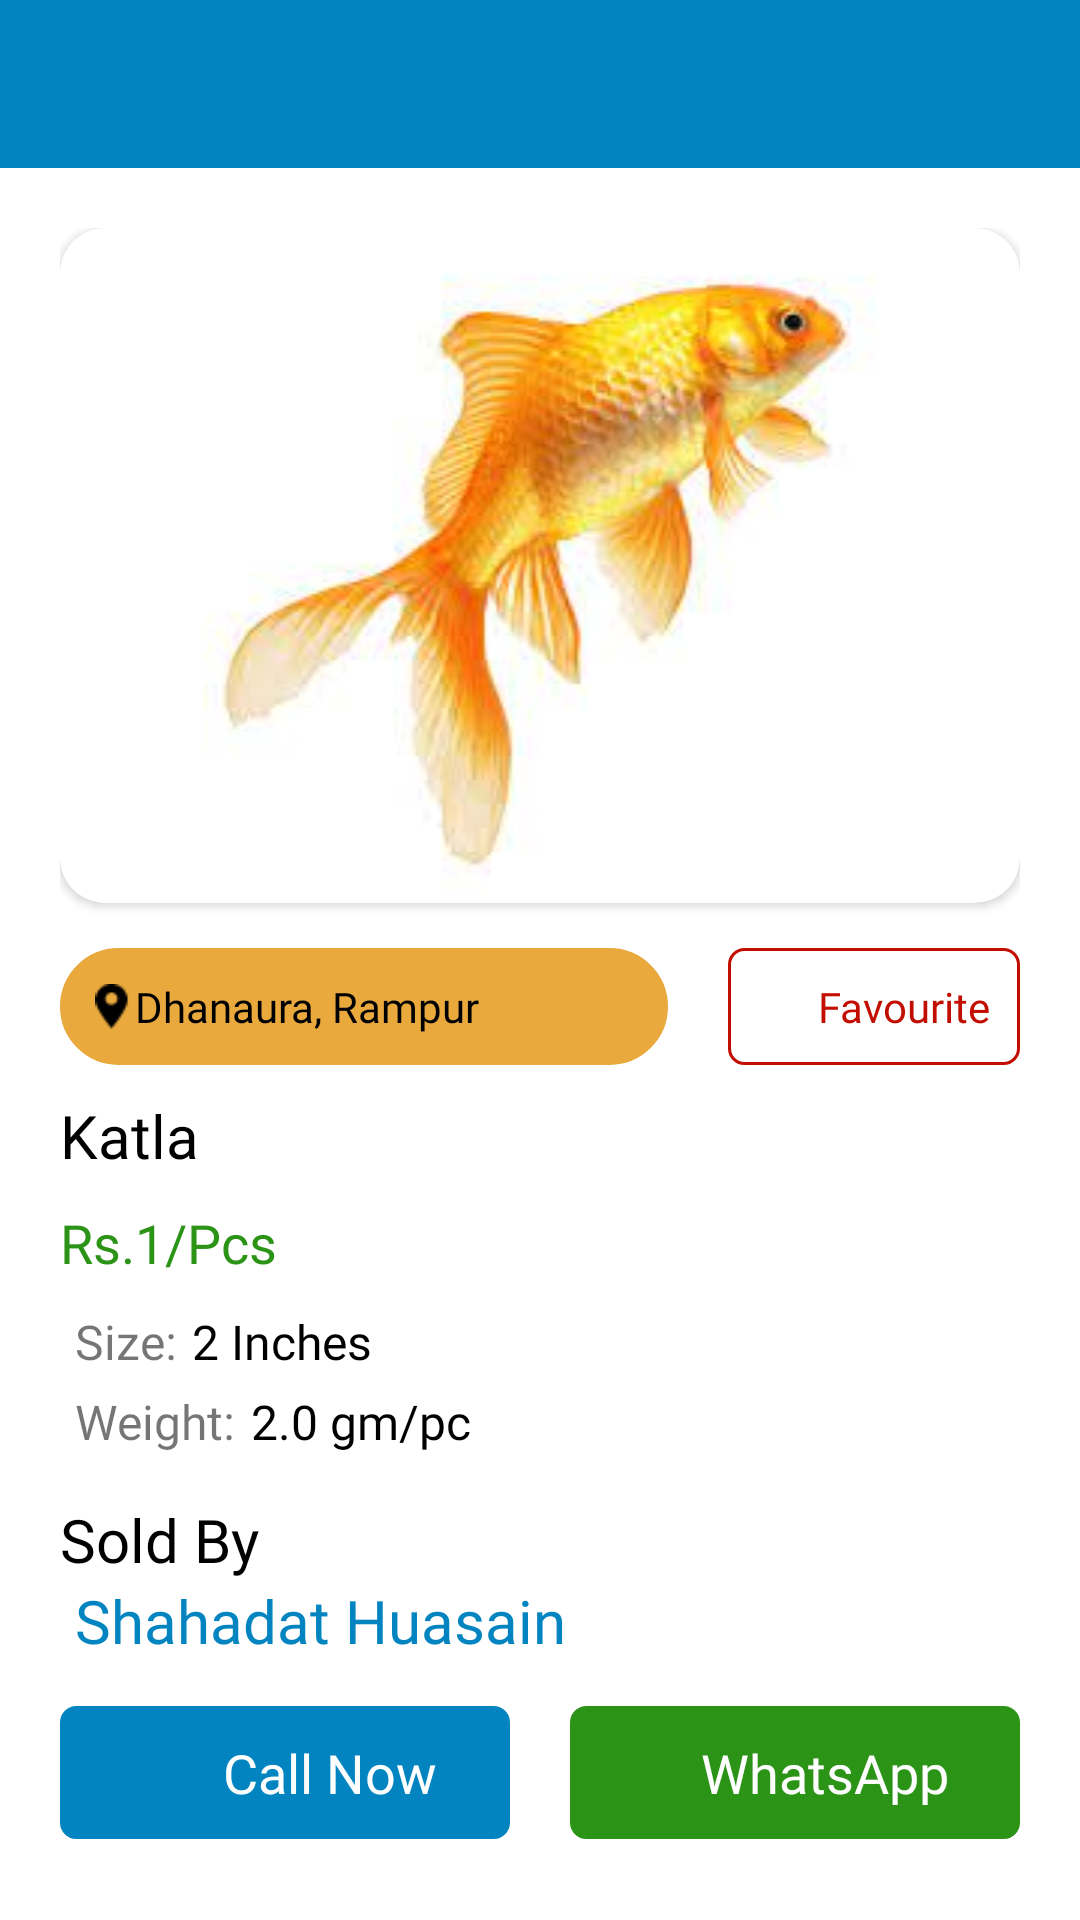

Icon click points for this 1080x1920 phone screenshot, format [x,y]:
location: [111,1006]
